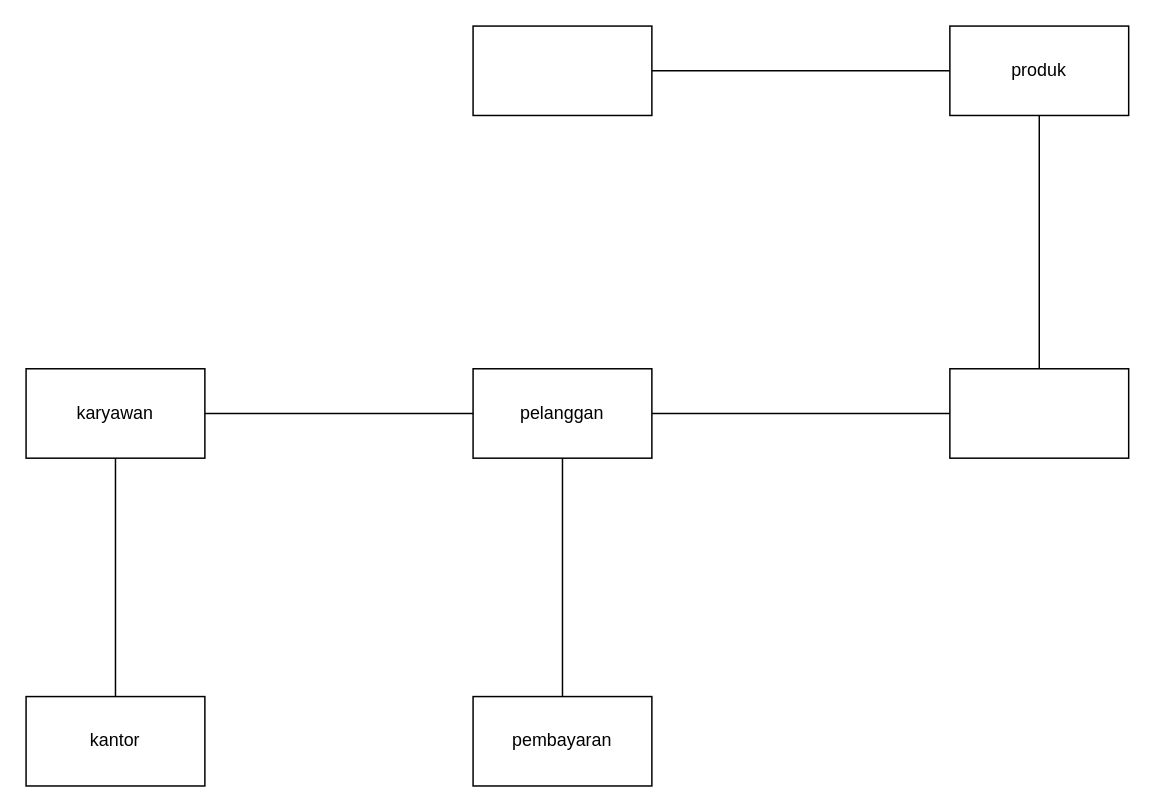
The diagram is 1155 pixels wide and 812 high, and some of its shapes have lost their labels. The shapes that lost their labels are listed below. From the top down, each one's box as (x1, y1, x2, y2) in pixels, then its label:
(472, 25, 652, 115): jenisproduk
(948, 367, 1129, 458): pesanan
